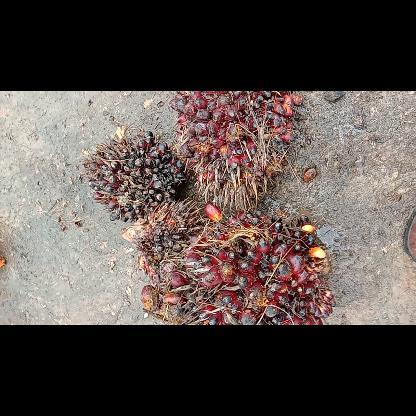Kurang masak: (141, 210, 334, 324)
TBS abnormal: (82, 128, 190, 223), (122, 197, 206, 281)
TBS masak: (170, 90, 302, 208)
